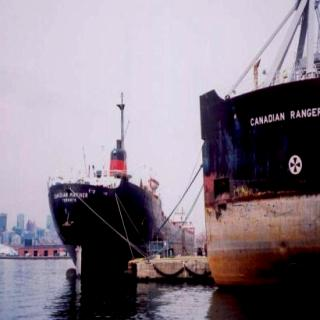Bulk Carrier: (51, 15, 320, 296)
